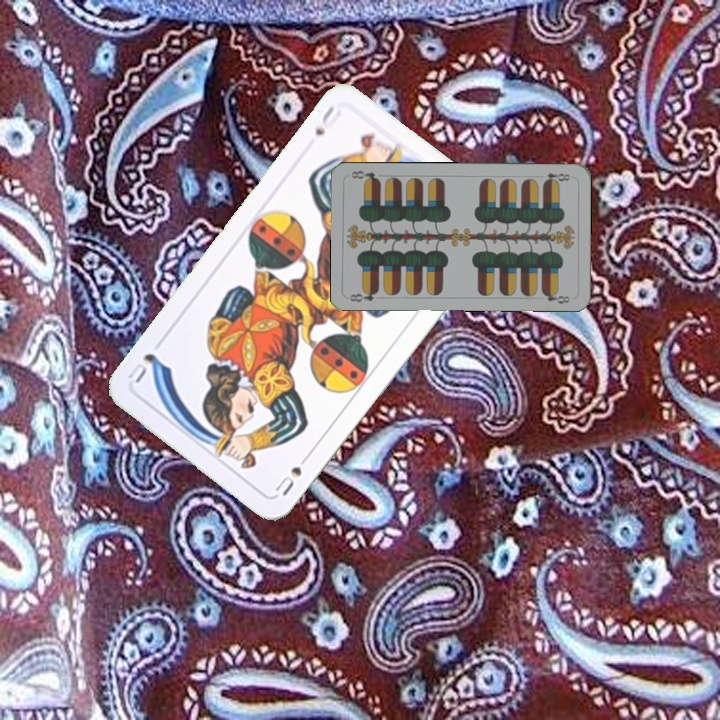E8: (346, 286, 381, 305), (539, 169, 575, 186)
SU: (271, 448, 315, 499), (311, 101, 344, 139)
